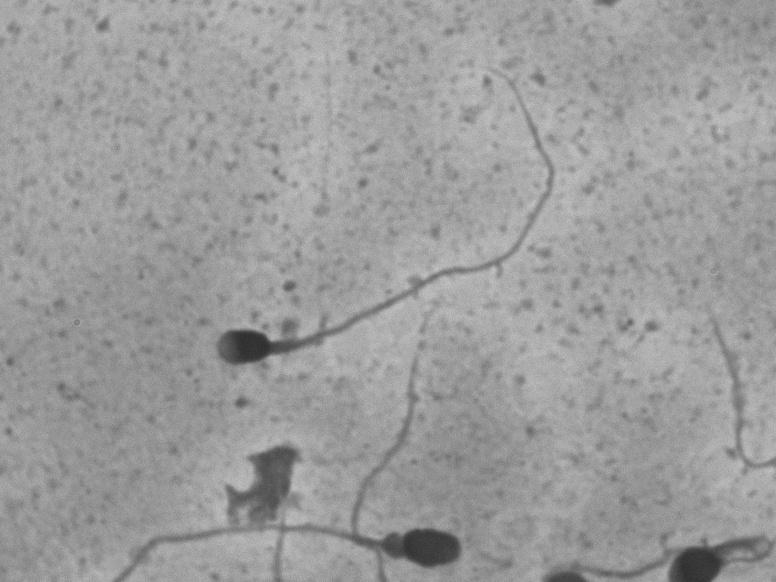Abnormal: (107, 464, 496, 576)
Normal: (168, 60, 599, 382)
